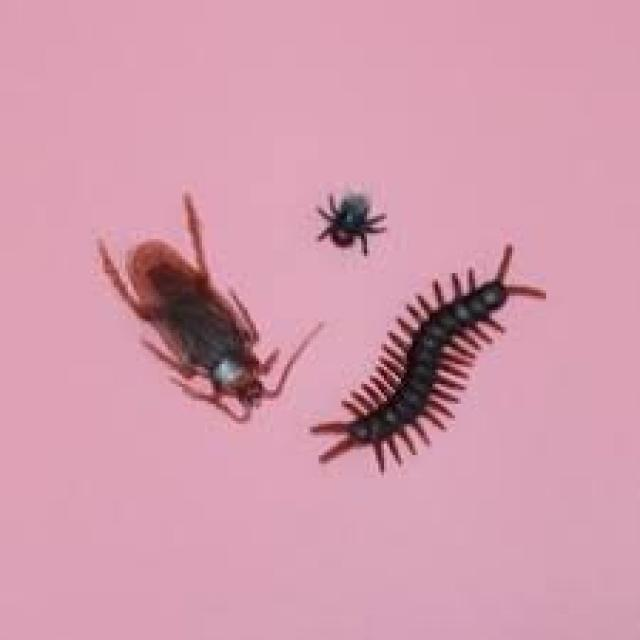Cockroach: (84, 188, 326, 464)
